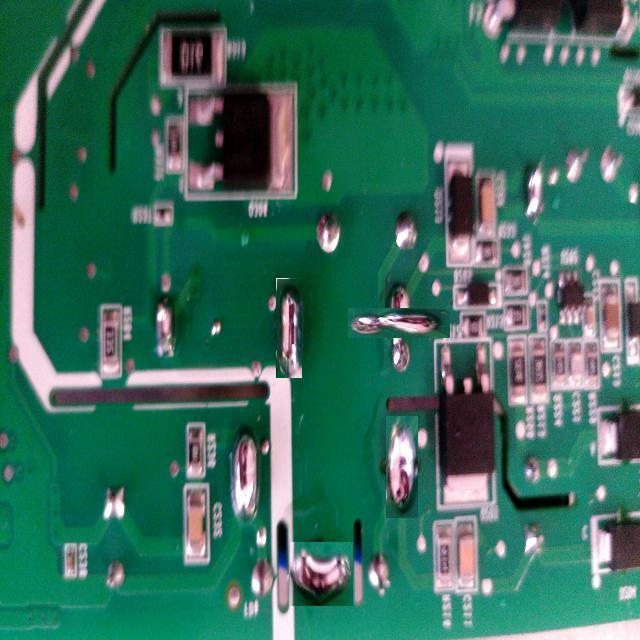Short_circuit: (365, 290, 432, 357), (289, 542, 353, 606), (386, 416, 418, 518), (276, 278, 302, 378), (227, 521, 233, 525)
